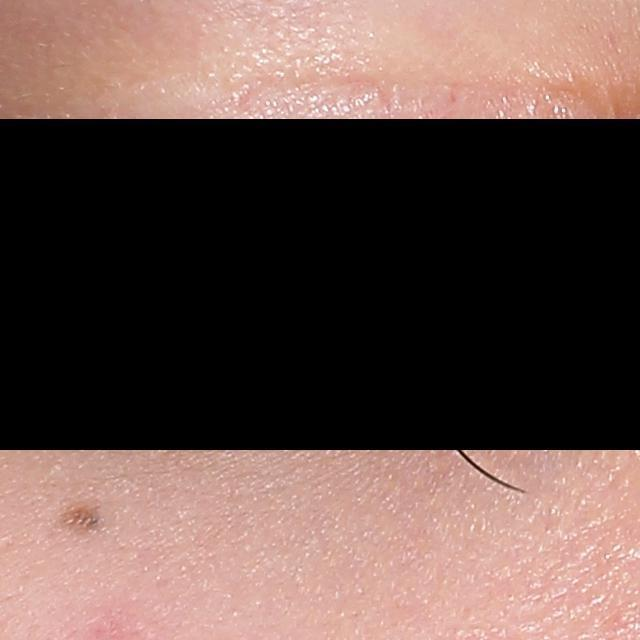nevus: (60, 505, 105, 532)
